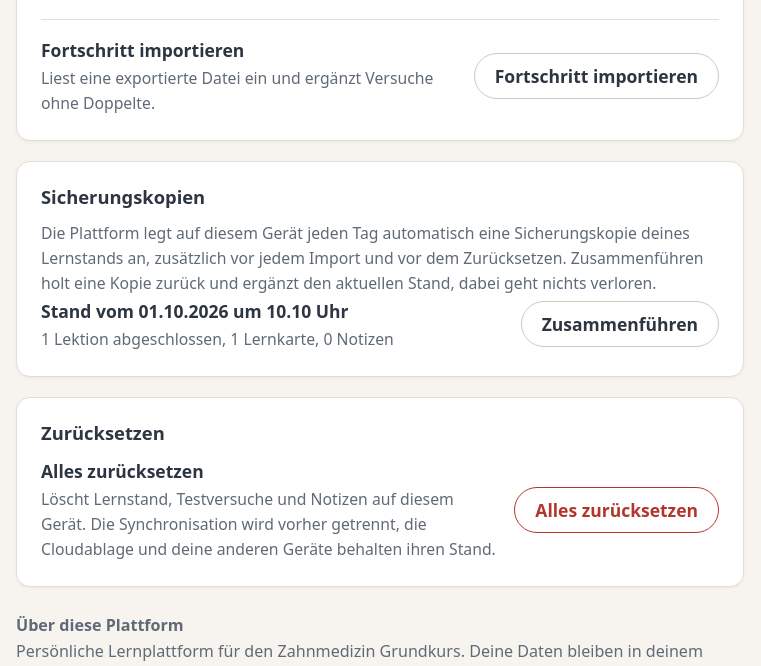
safety copies › merges a safety copy back into the current progress
The width and height of the screenshot is (761, 666).
(page scrolled)
Click the button "Zusammenführen" at (620, 324), box [521,301,719,347]
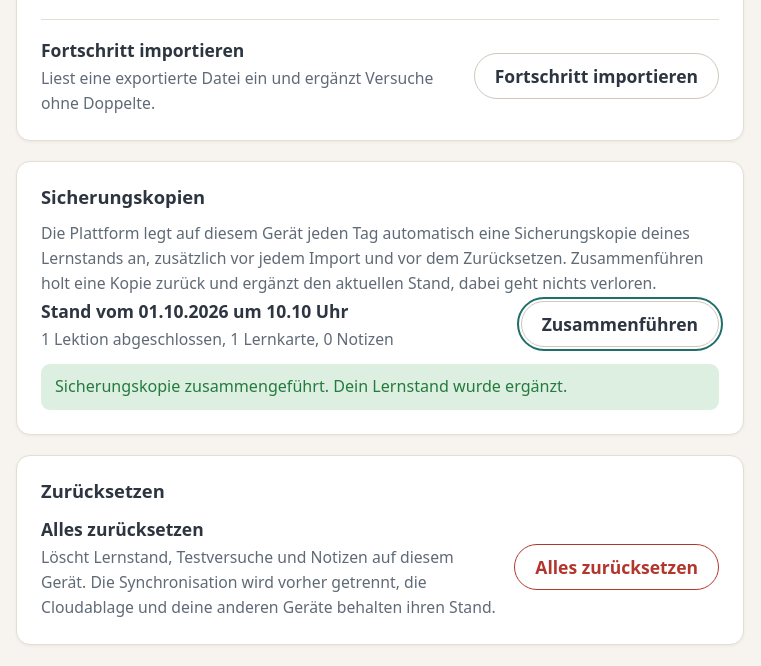
Check: the text "Sicherungskopie zusammengeführt. Dein Lernstand wurde ergänzt." is shown, box [41,364,719,410]
